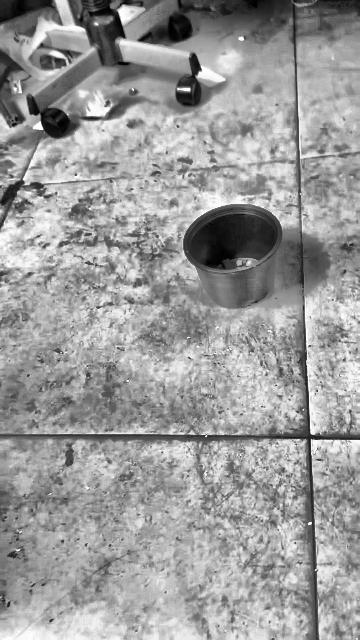pot: (183, 204, 281, 308)
